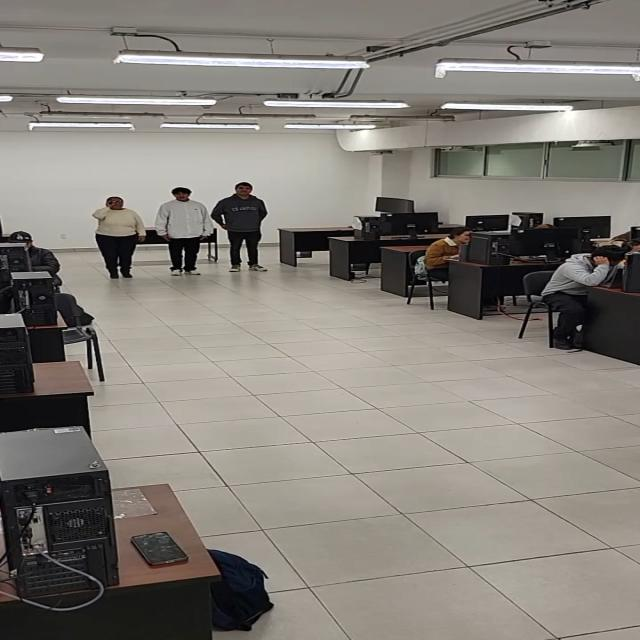Persona: (212, 182, 270, 272), (156, 186, 212, 275), (92, 196, 144, 279)
